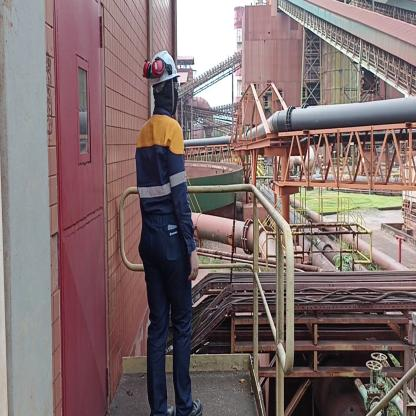Balaclava: (155, 78, 178, 112)
Capacete: (144, 46, 179, 84)
Operacional: (136, 114, 191, 233)
